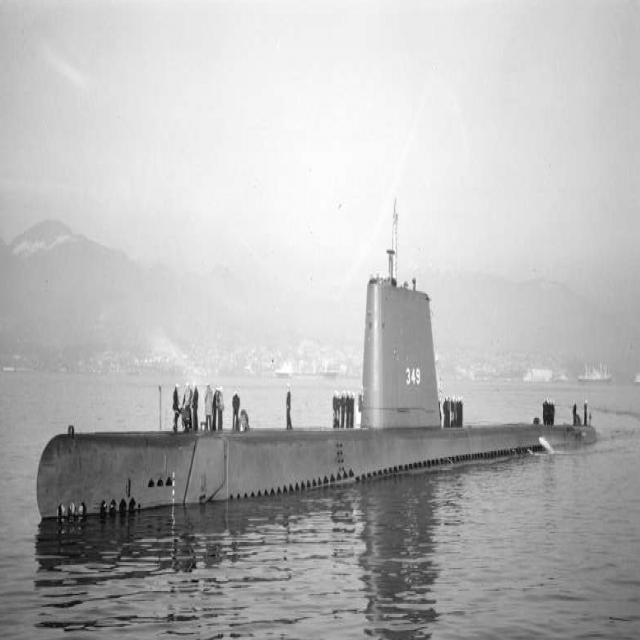submarine: (38, 203, 602, 520)
